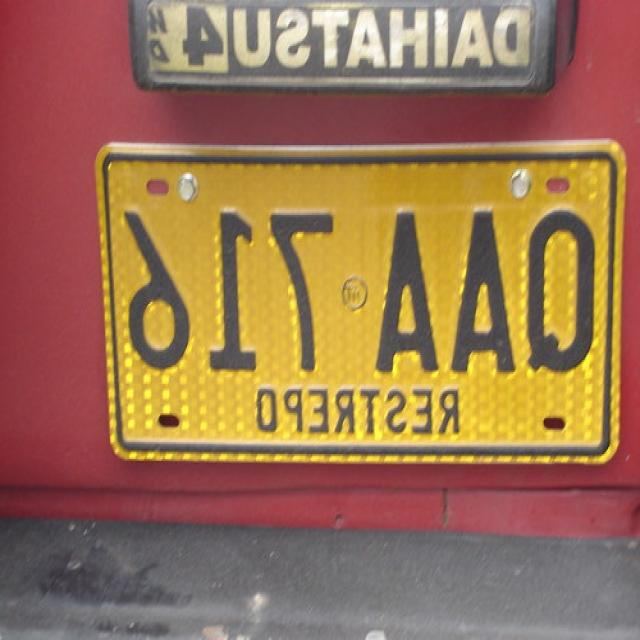placas: (119, 147, 599, 377)
